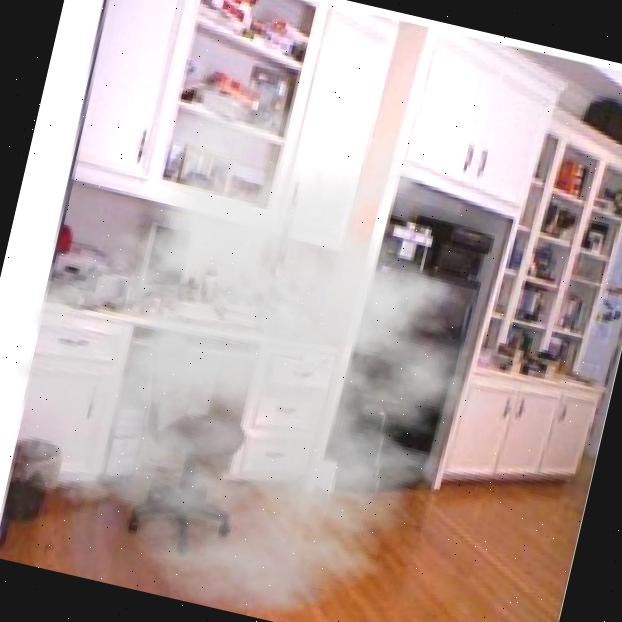smoke: (0, 29, 579, 622)
